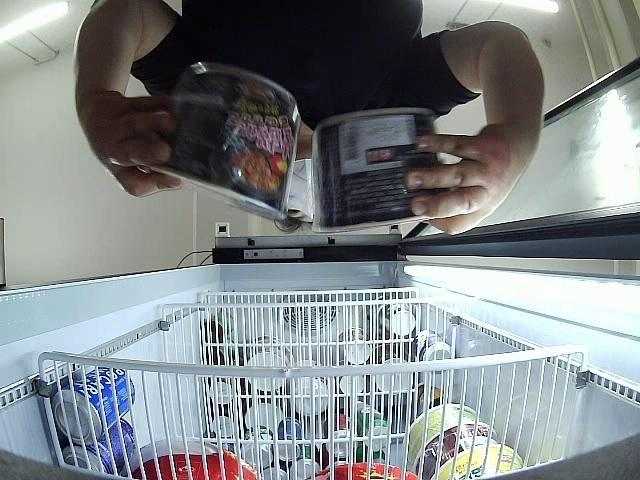07_buldak_L: (137, 64, 300, 222), (308, 109, 448, 232)
